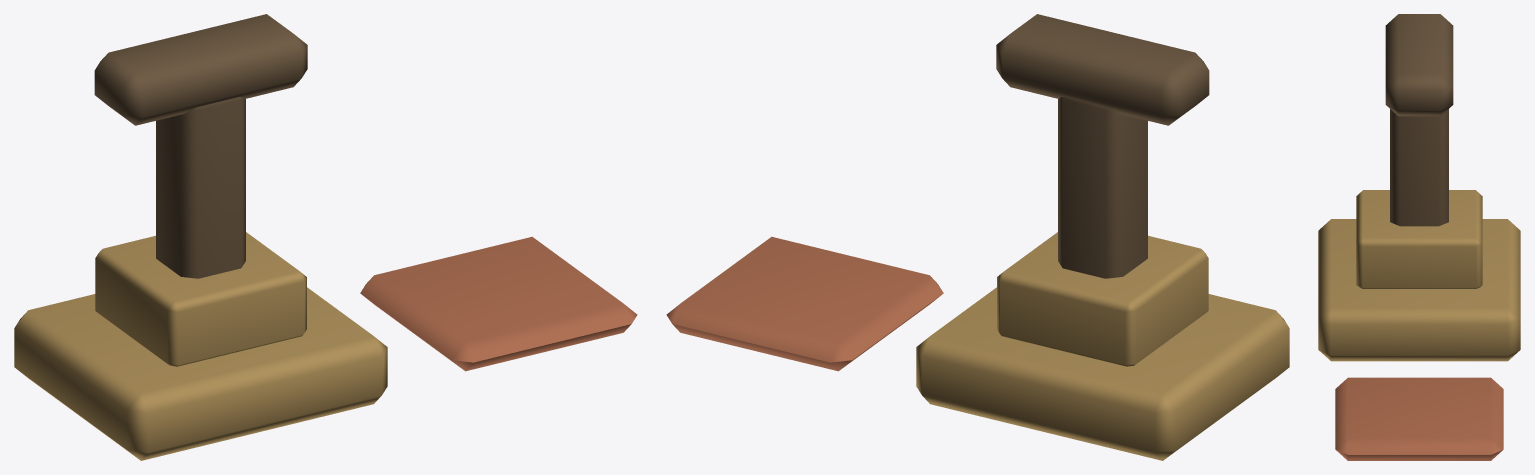
The model's file is seal_press.glb.
3 views of the same model, side by side, from view 1: azimuth 30°, elevation 25°; view 2: azimuth 150°, elevation 25°; view 3: azimuth 270°, elevation 25° (orthographic). The views are drawn at different scales.
Visible parts, largest first — view 1: brass seal base, stamp handle, wax tablet; view 2: brass seal base, stamp handle, wax tablet; view 3: brass seal base, wax tablet, stamp handle.
Part boxes in pixels (<box>): brass seal base: <box>14,232,387,460</box>; stamp handle: <box>94,14,307,278</box>; wax tablet: <box>360,236,637,371</box>; brass seal base: <box>916,232,1289,460</box>; stamp handle: <box>996,14,1209,278</box>; wax tablet: <box>666,236,943,371</box>; brass seal base: <box>1318,190,1520,361</box>; wax tablet: <box>1335,377,1503,460</box>; stamp handle: <box>1385,14,1453,226</box>.
Bounding box in the file's own units: 0.56 × 0.3575 × 0.24.
